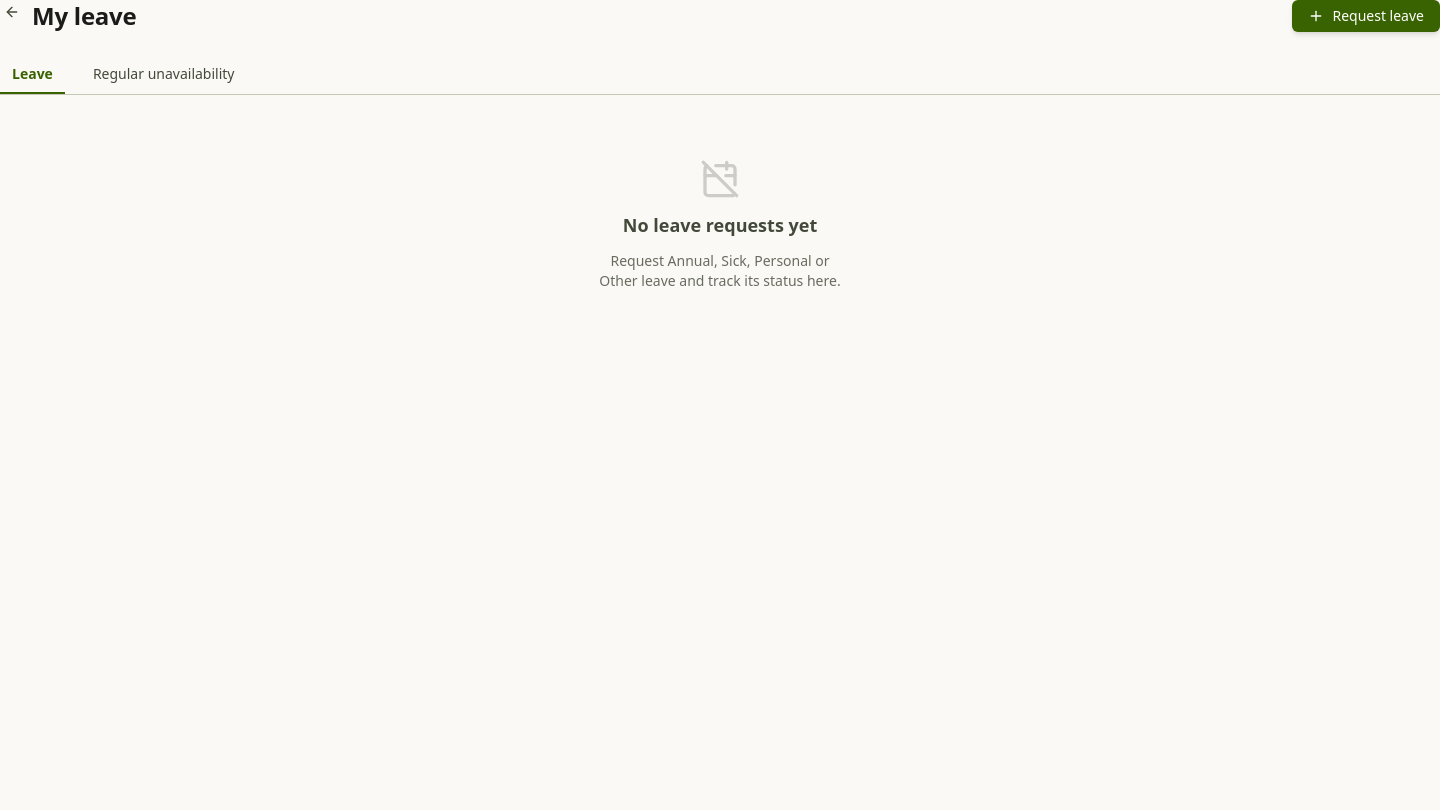
Scenario: PortalLeavePage › submits a new recurring unavailability rule from the Regular unavailability tab
Click the tab "Regular unavailability" at {"x": 164, "y": 75}, box [81, 56, 246, 94]
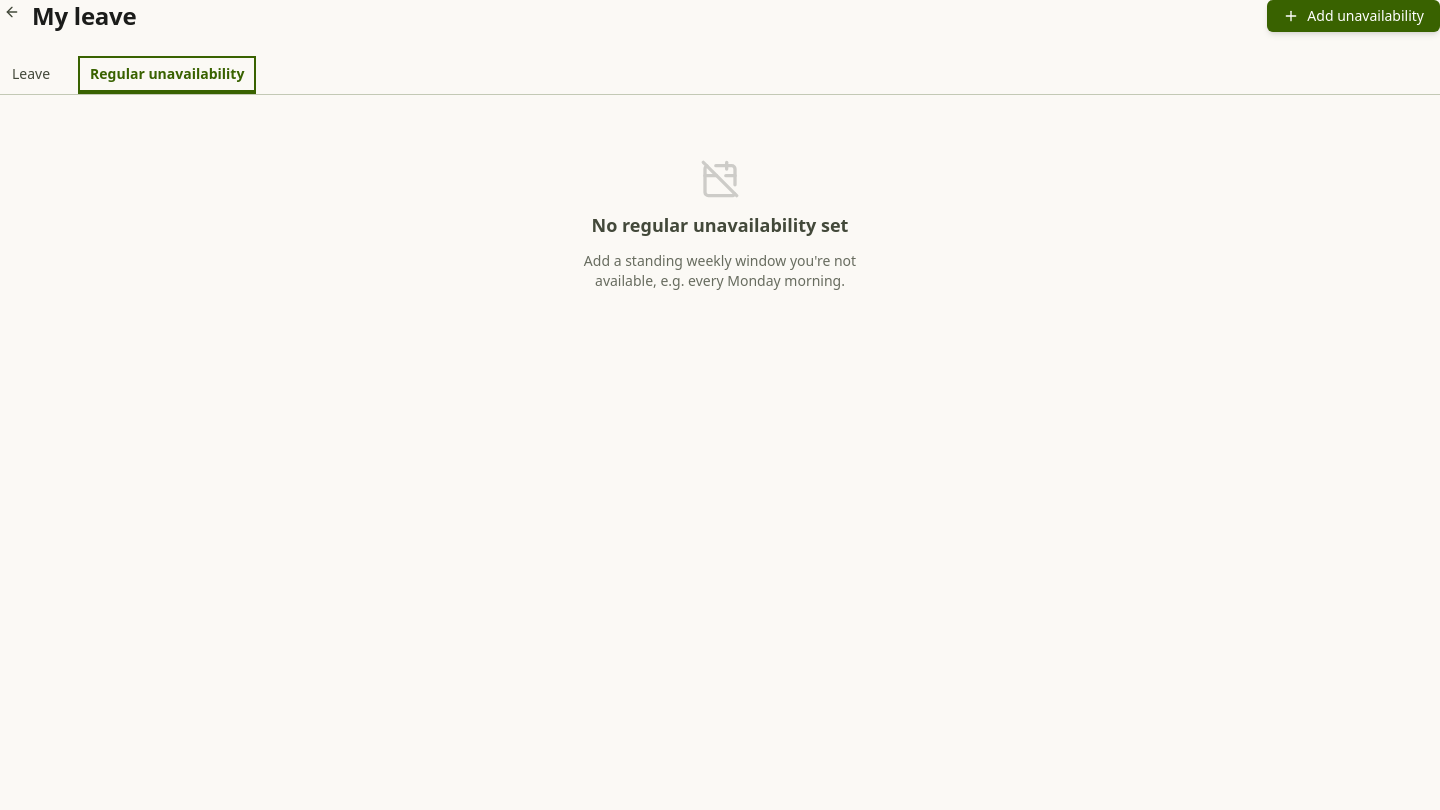
Click the button "Add unavailability" at {"x": 1354, "y": 16}, box [1267, 0, 1439, 32]
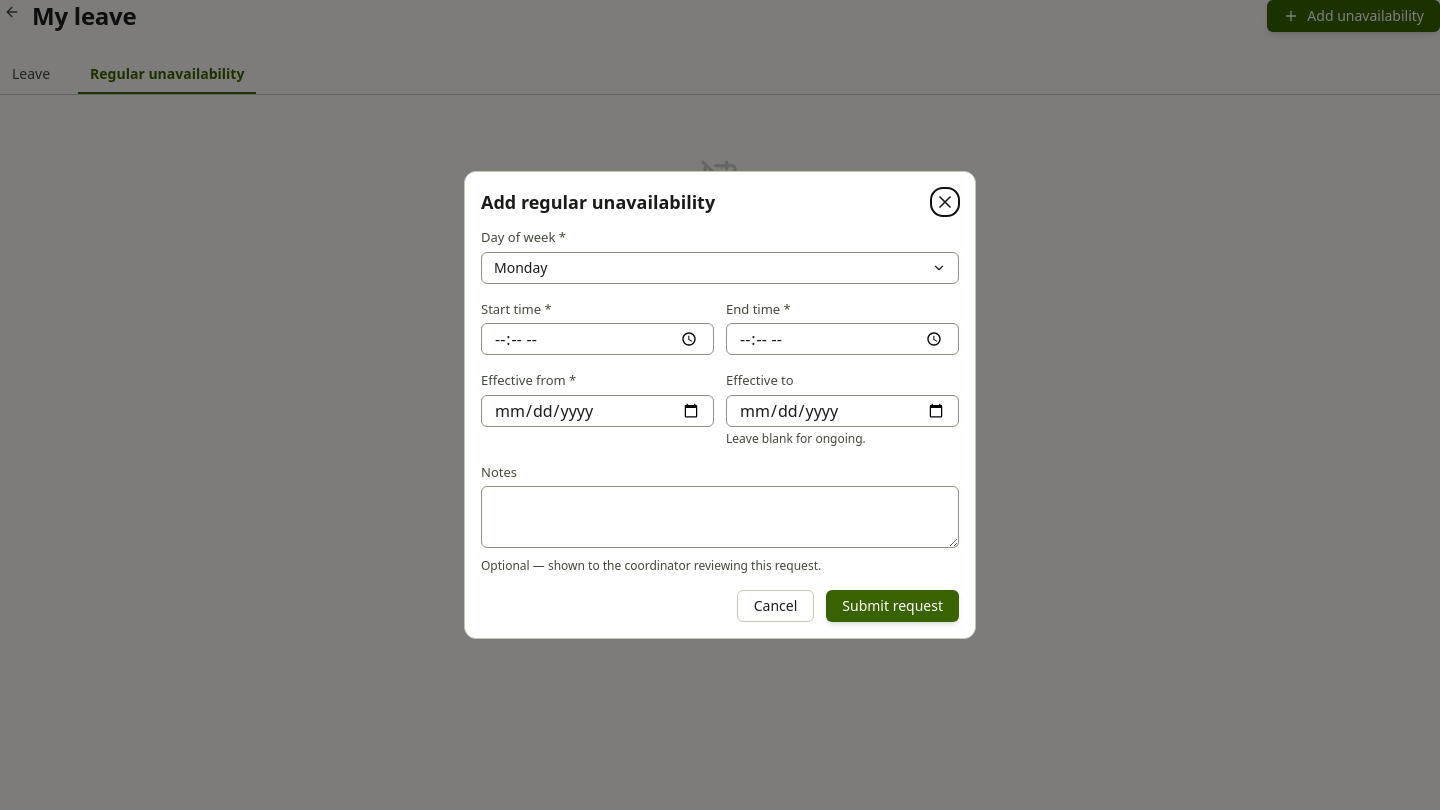
Type "09:00" into the time field labelled "Start time *" at {"x": 598, "y": 339}, box [481, 323, 714, 355]
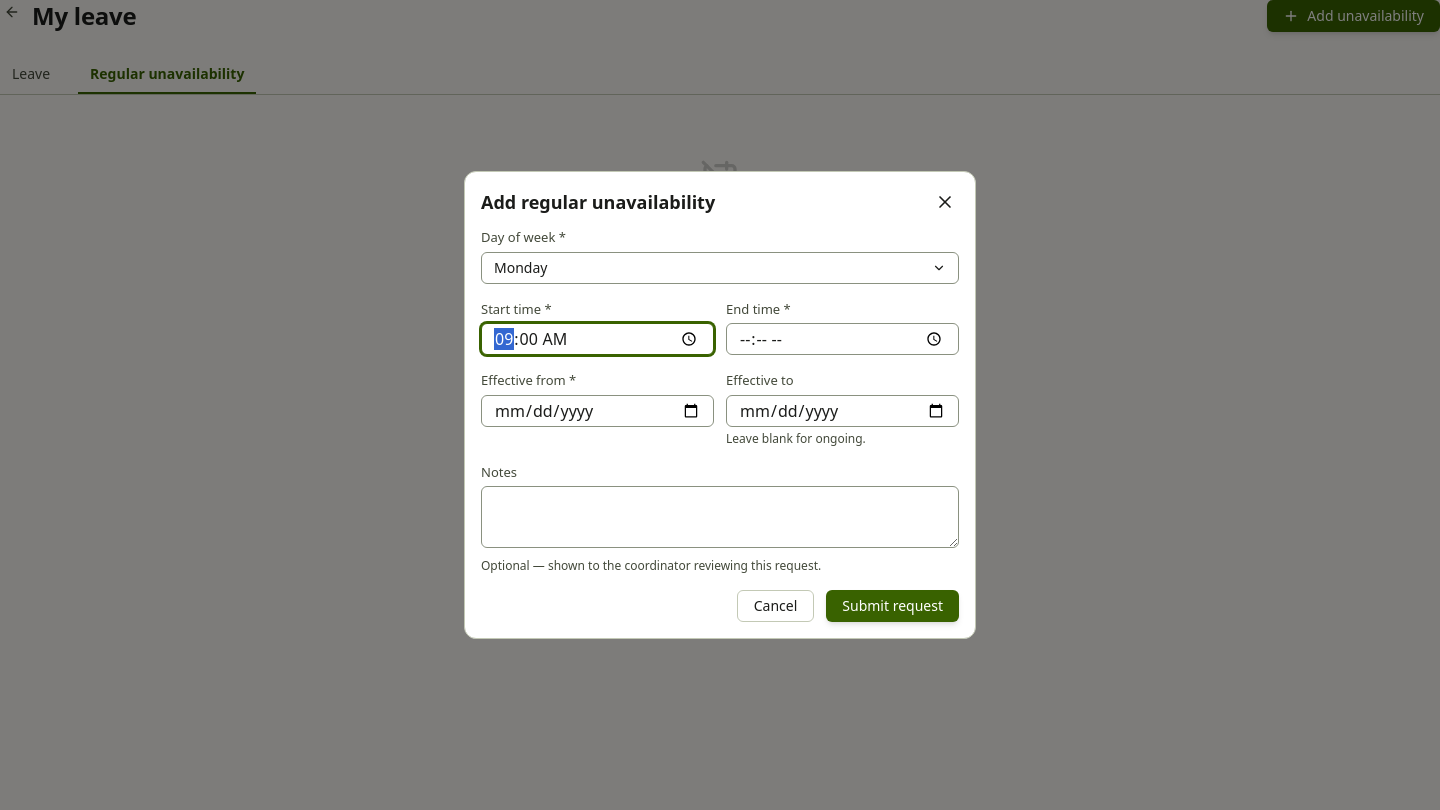
Type "12:00" into the time field labelled "End time *" at {"x": 842, "y": 339}, box [726, 323, 959, 355]
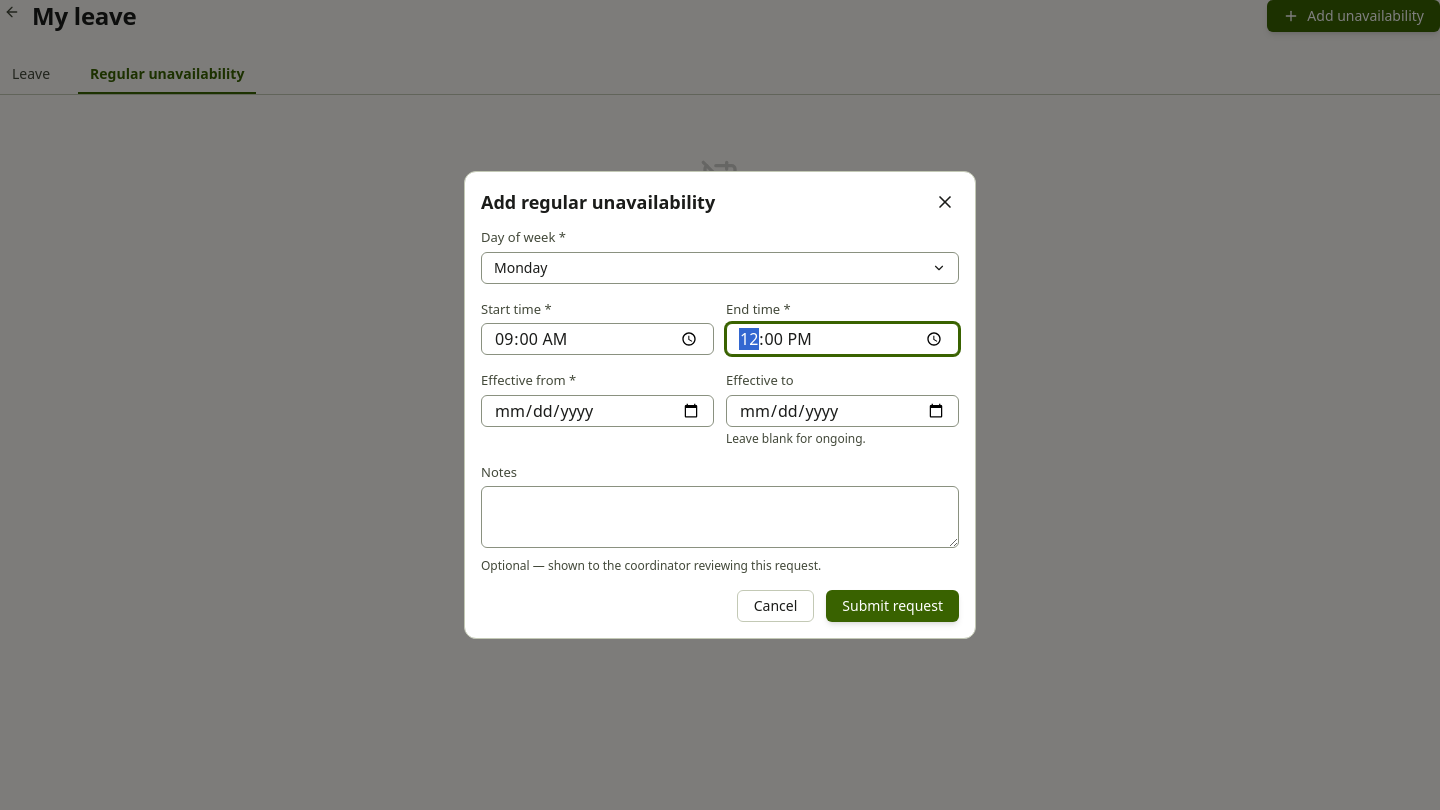
Type "2026-09-14" into the date field labelled "Effective from *" at {"x": 598, "y": 410}, box [481, 394, 714, 426]
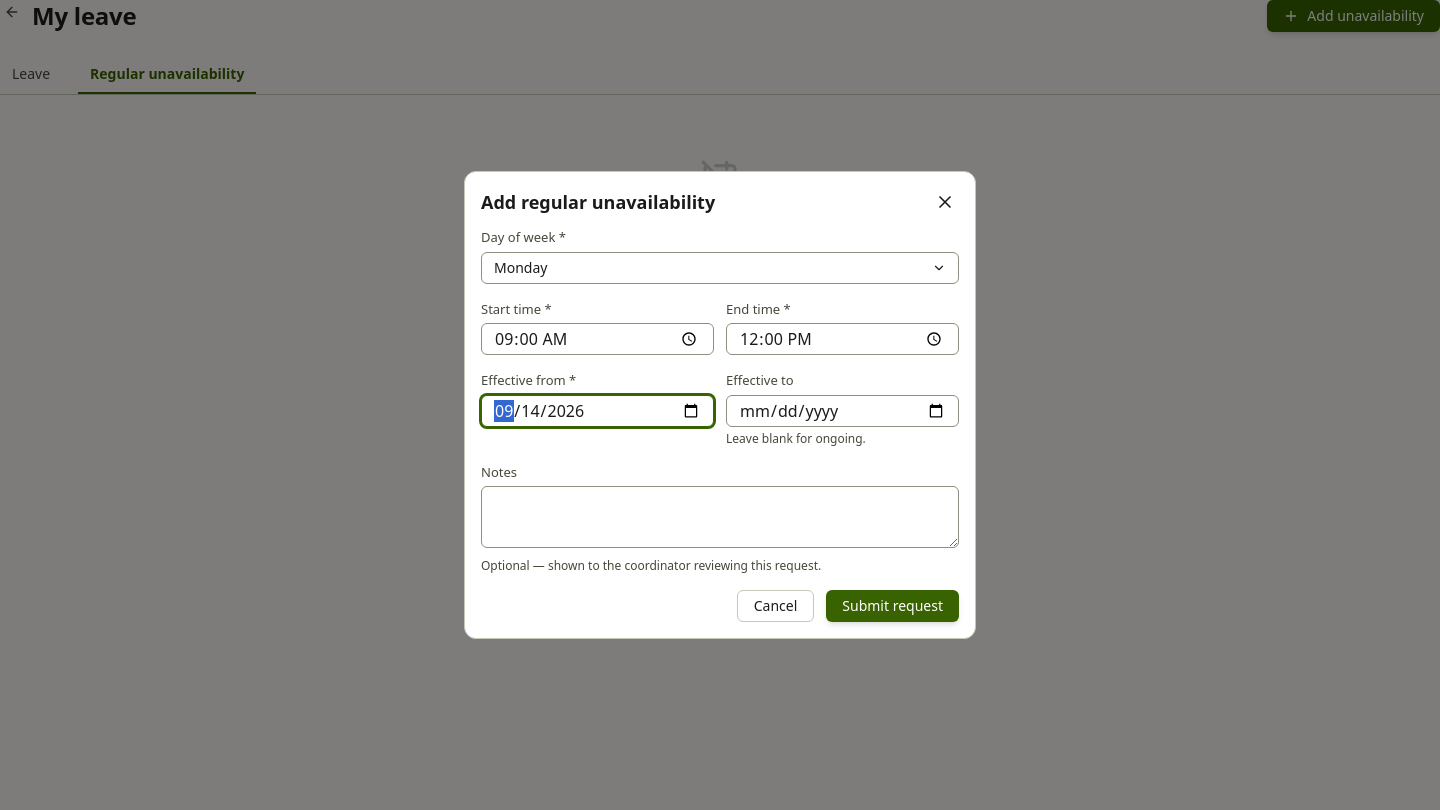
Click the button "Submit request" at {"x": 893, "y": 606}, box [826, 590, 959, 622]
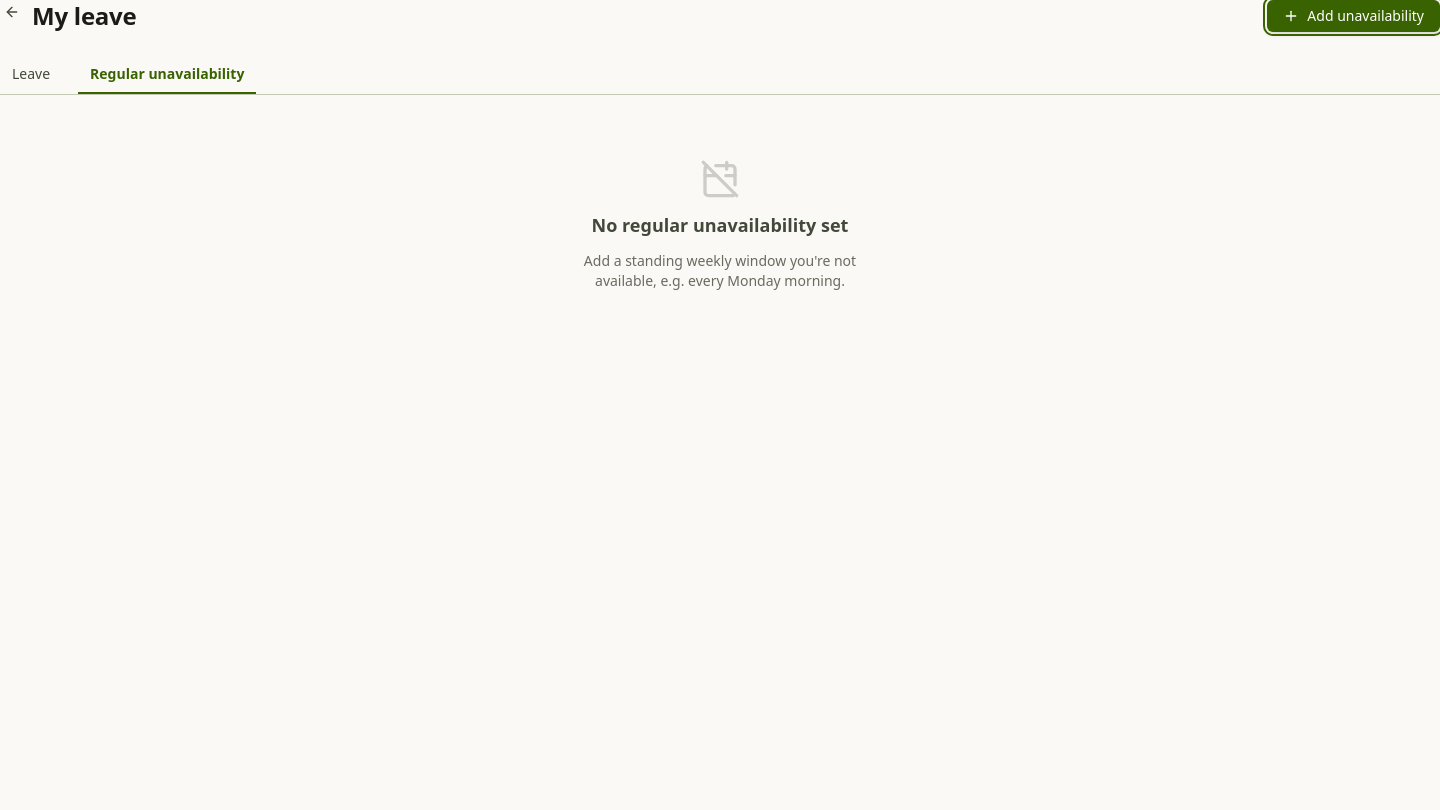
Check: the button "Submit request" is gone
